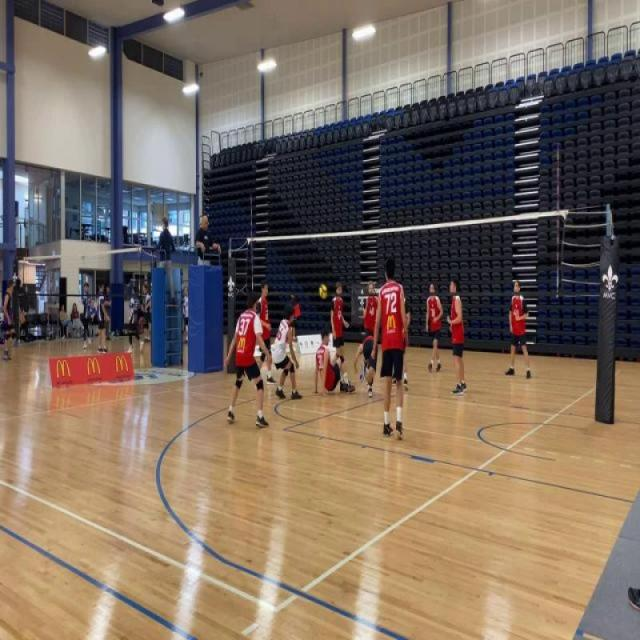volleyball: (317, 282, 330, 301)
